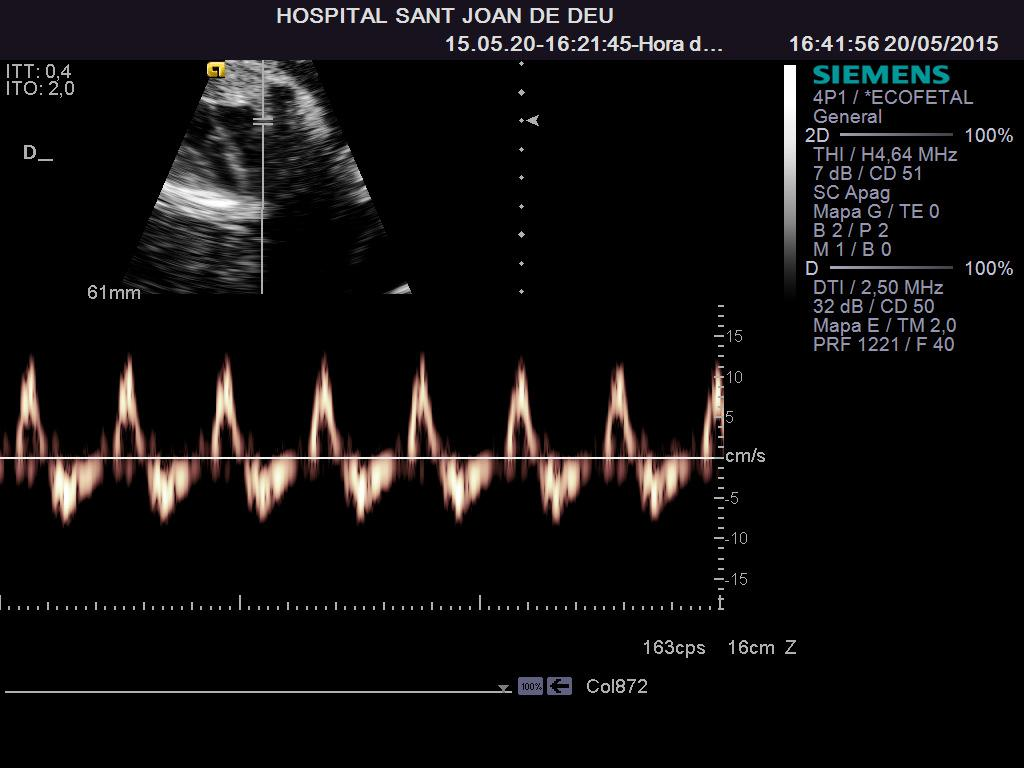Ultrasound-Waves: (2, 311, 714, 591)
